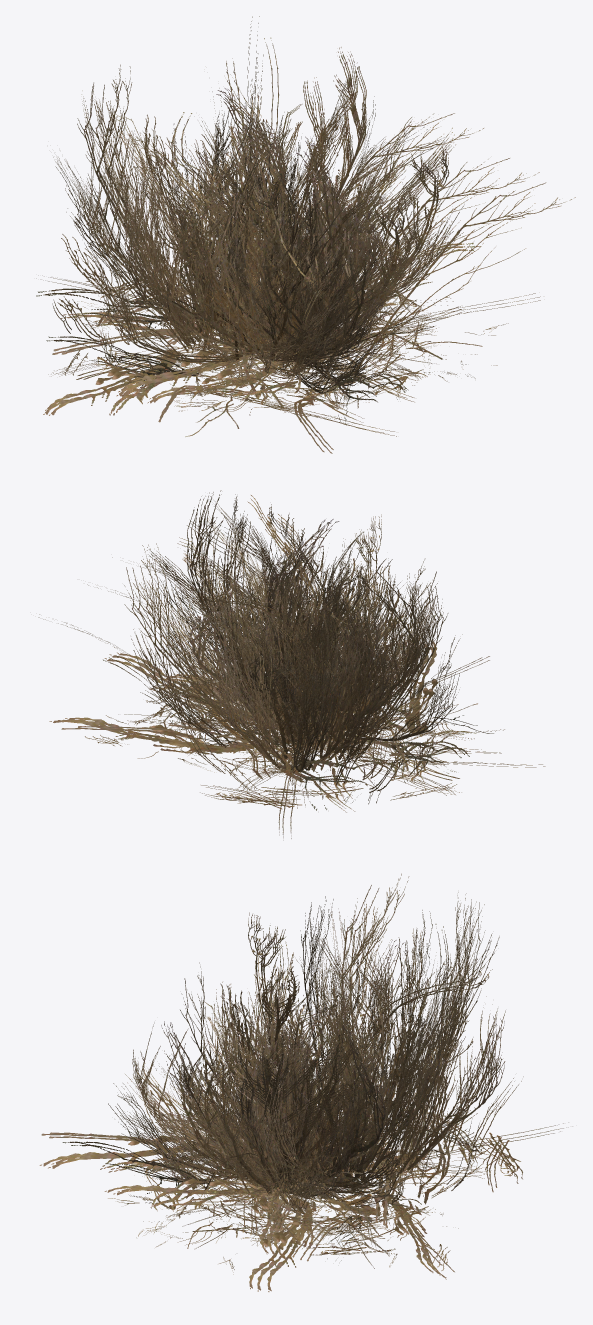
File: bush.glb
The picture shows the model from 3 angles, top to bottom: view 1: azimuth 30°, elevation 25°; view 2: azimuth 150°, elevation 25°; view 3: azimuth 270°, elevation 25°; orthographic projection. The views are drawn at different scales.
Visible parts, largest first — view 1: SM_vdknafgha_VarA; view 2: SM_vdknafgha_VarA; view 3: SM_vdknafgha_VarA.
Part boxes in pixels (x1,y1,x2,y2): SM_vdknafgha_VarA: [36, 16, 575, 453]; SM_vdknafgha_VarA: [38, 490, 545, 840]; SM_vdknafgha_VarA: [39, 873, 572, 1291].
Size of what is drawn, in the model's own units: 1.28 by 0.6645 by 1.13.
1 material, 1 textured.
